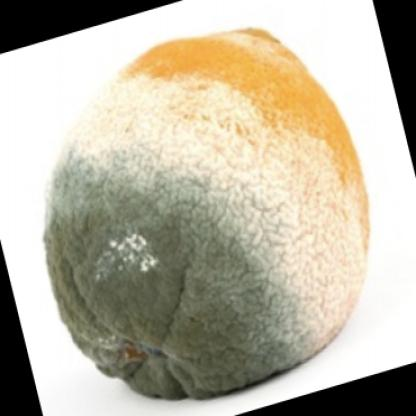rotten_orange: (25, 27, 374, 401)
